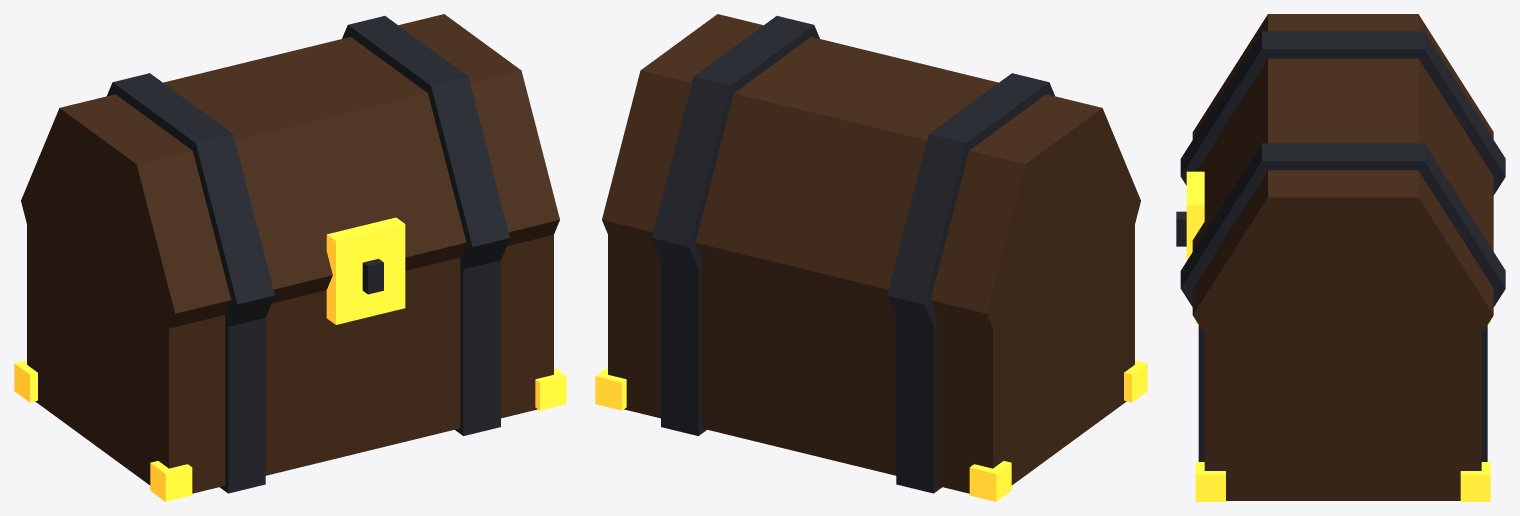
Rendered from treasure_chest.glb.
The picture shows the model from 3 angles, left to right: view 1: azimuth 30°, elevation 25°; view 2: azimuth 150°, elevation 25°; view 3: azimuth 270°, elevation 25°; orthographic projection. The views are drawn at different scales.
Visible parts, largest first — view 1: Lid, Body, LidStrapR, LidStrapL, StrapL, StrapR, LockPlate, Stud.003, Stud.001, Stud.002, Keyhole; view 2: Lid, Body, LidStrapL, LidStrapR, StrapL, StrapR, Stud.002, Stud, Stud.003; view 3: Lid, Body, LidStrapL, LidStrapR, StrapL, LockPlate, Stud, Stud.001, Keyhole.
Boxes of the visible parts, <box> form: Lid: <box>21,14,559,403</box>; Body: <box>27,216,553,493</box>; LidStrapR: <box>107,73,274,333</box>; LidStrapL: <box>342,16,509,269</box>; StrapL: <box>455,251,500,435</box>; StrapR: <box>219,318,265,493</box>; LockPlate: <box>326,217,405,324</box>; Stud.003: <box>150,461,192,501</box>; Stud.001: <box>535,367,566,410</box>; Stud.002: <box>14,360,37,402</box>; Keyhole: <box>362,258,383,294</box>; Lid: <box>602,14,1140,406</box>; Body: <box>608,225,1134,493</box>; LidStrapL: <box>652,16,819,275</box>; LidStrapR: <box>887,73,1054,333</box>; StrapL: <box>661,254,706,435</box>; StrapR: <box>896,309,942,493</box>; Stud.002: <box>969,461,1011,501</box>; Stud: <box>595,367,626,410</box>; Stud.003: <box>1124,360,1147,402</box>; Lid: <box>1192,14,1493,428</box>; Body: <box>1204,315,1481,500</box>; LidStrapL: <box>1180,143,1505,306</box>; LidStrapR: <box>1180,31,1505,195</box>; StrapL: <box>1198,325,1487,461</box>; LockPlate: <box>1186,171,1204,260</box>; Stud: <box>1460,462,1490,501</box>; Stud.001: <box>1195,462,1225,501</box>; Keyhole: <box>1176,211,1186,246</box>.
Size of the model in its own units: 0.75 by 0.5838 by 0.5475.
